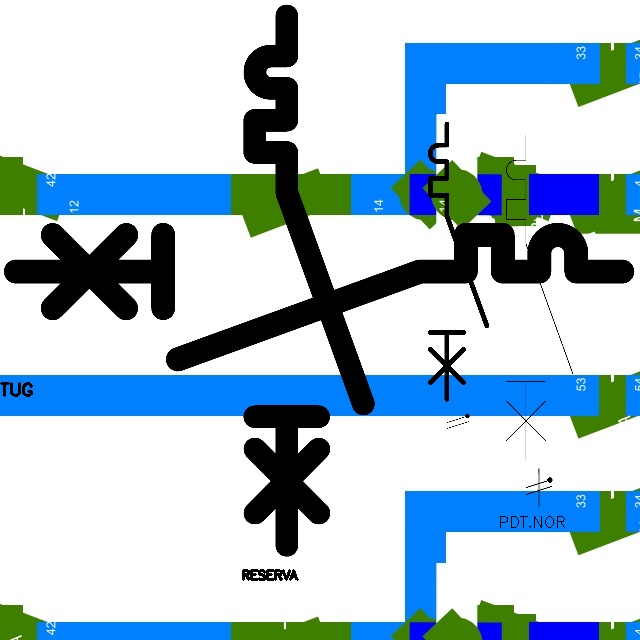interruptor_termomagnetico: (0, 219, 638, 375), (241, 2, 377, 559), (498, 127, 581, 468), (423, 117, 493, 406)
